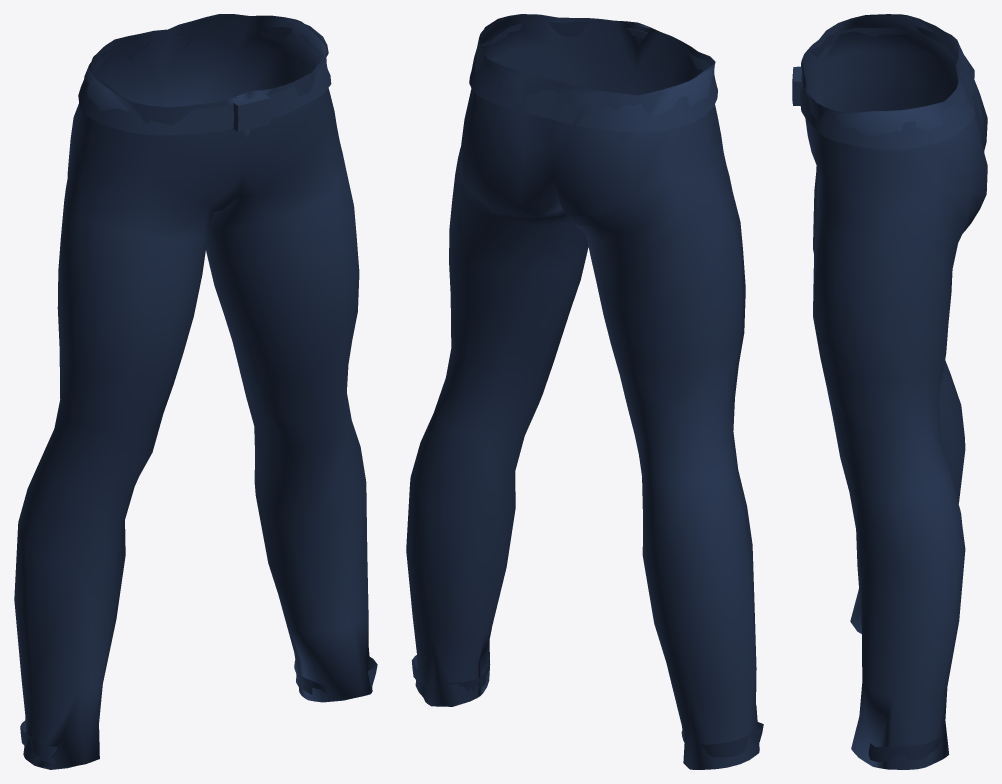
The model's file is jeans.glb.
3 renders of one model, left to right at view 1: azimuth 30°, elevation 25°; view 2: azimuth 150°, elevation 25°; view 3: azimuth 270°, elevation 25°, orthographic. The views are drawn at different scales.
Parts seen in each view (by area): view 1: jeans; view 2: jeans; view 3: jeans.
Boxes of the visible parts, x1,y1,x2,y2 form: jeans: [14, 14, 377, 769]; jeans: [406, 14, 763, 769]; jeans: [792, 14, 987, 769].
Size of the model in its own units: 0.5105 by 0.9773 by 0.2724.
